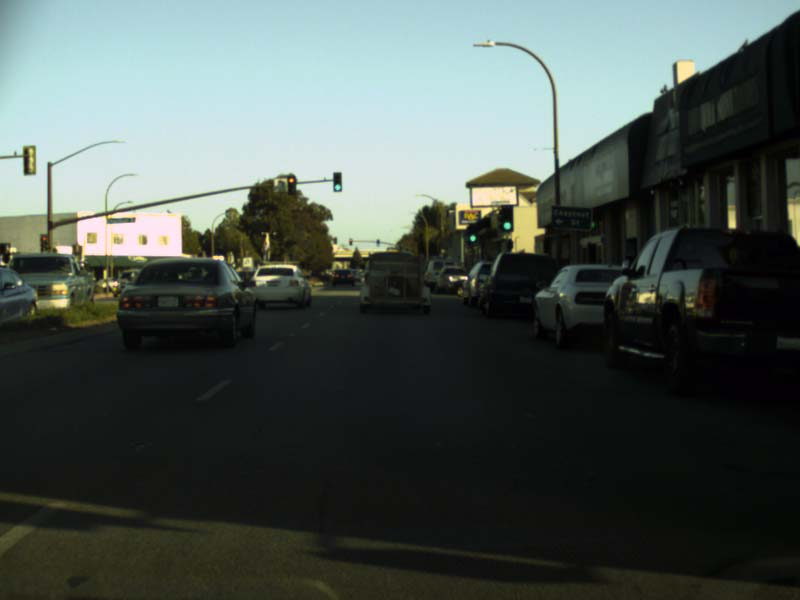Green: (502, 205, 513, 229), (467, 223, 479, 243), (333, 172, 342, 190), (376, 239, 379, 246)
Red: (287, 176, 295, 194), (40, 233, 47, 252), (348, 238, 352, 245)
